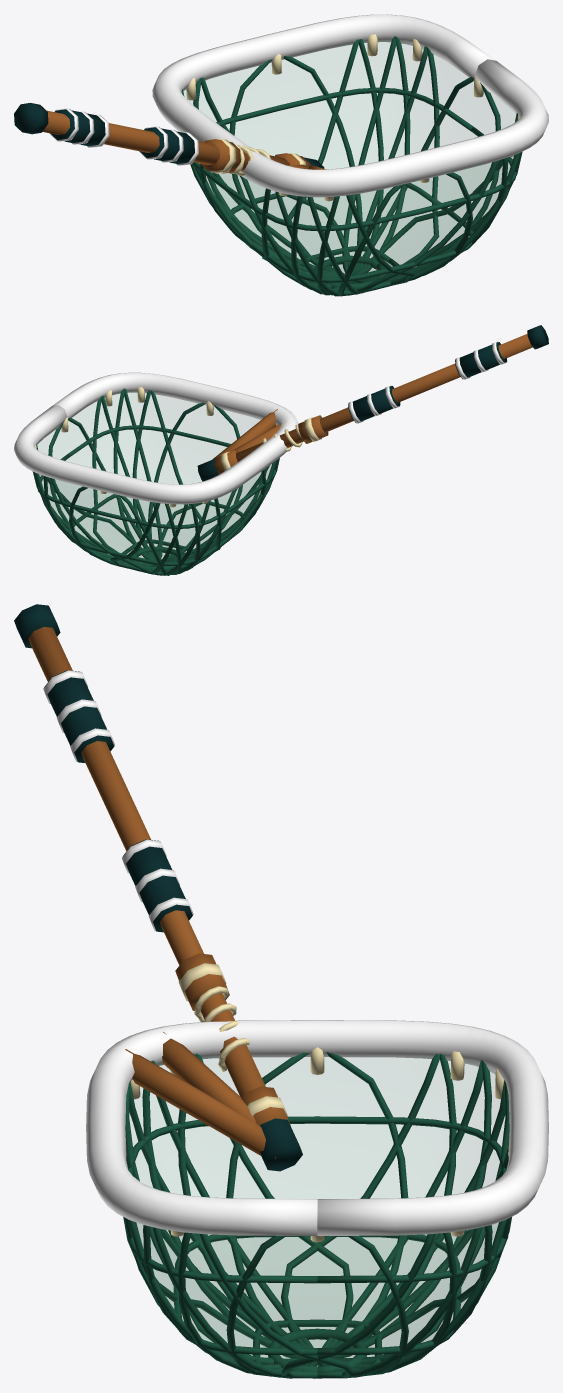
File: net-red-reuso.glb
The picture shows the model from 3 angles, top to bottom: view 1: azimuth 30°, elevation 25°; view 2: azimuth 150°, elevation 25°; view 3: azimuth 270°, elevation 25°; orthographic projection. The views are drawn at different scales.
Visible parts, largest first — view 1: Open woven pouch.001, Woven green cord.001, NetColor.003, Recovered wood.001, Equipment lagoon.005, NetColor.002, Equipment cream.006, Equipment cream.005; view 2: Open woven pouch.001, Woven green cord.001, NetColor.003, Recovered wood.001, Equipment lagoon.005, Recovered wood.002, NetColor.002, Equipment cream.005, Equipment cream.006, Equipment lagoon.006; view 3: Open woven pouch.001, Woven green cord.001, NetColor.003, Recovered wood.001, Recovered wood.002, Equipment lagoon.005, NetColor.002, Equipment cream.005, Equipment lagoon.006, Equipment cream.006.
Boxes of the visible parts, bbox=[...] form: Open woven pouch.001: bbox=[184, 39, 515, 292]; Woven green cord.001: bbox=[181, 36, 522, 296]; NetColor.003: bbox=[152, 14, 548, 197]; Recovered wood.001: bbox=[42, 110, 310, 173]; Equipment lagoon.005: bbox=[14, 103, 194, 163]; NetColor.002: bbox=[49, 108, 198, 165]; Equipment cream.006: bbox=[186, 34, 519, 201]; Equipment cream.005: bbox=[211, 139, 305, 175]; Open woven pouch.001: bbox=[38, 391, 272, 573]; Woven green cord.001: bbox=[32, 388, 279, 575]; NetColor.003: bbox=[14, 372, 298, 504]; Recovered wood.001: bbox=[214, 333, 532, 474]; Equipment lagoon.005: bbox=[348, 325, 548, 422]; Recovered wood.002: bbox=[212, 409, 281, 459]; NetColor.002: bbox=[348, 341, 506, 423]; Equipment cream.005: bbox=[220, 417, 321, 470]; Equipment cream.006: bbox=[35, 387, 213, 507]; Equipment lagoon.006: bbox=[197, 459, 218, 481]; Open woven pouch.001: bbox=[126, 1057, 508, 1374]; Woven green cord.001: bbox=[123, 1052, 511, 1378]; NetColor.003: bbox=[86, 1020, 548, 1235]; Recovered wood.001: bbox=[28, 626, 290, 1126]; Recovered wood.002: bbox=[125, 1032, 276, 1160]; Equipment lagoon.005: bbox=[14, 604, 192, 932]; NetColor.002: bbox=[43, 670, 193, 931]; Equipment cream.005: bbox=[178, 963, 287, 1117]; Equipment lagoon.006: bbox=[260, 1118, 302, 1171]; Equipment cream.006: bbox=[125, 1047, 509, 1242].
Size of the model in its own units: 3.05 by 1.78 by 1.79.
